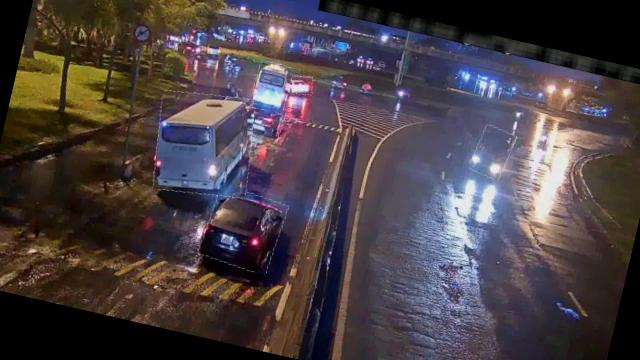Bus: (144, 84, 264, 206), (249, 60, 294, 115)
Car: (200, 184, 288, 276), (246, 101, 286, 144), (284, 72, 314, 98)
Truck: (469, 123, 516, 181)
